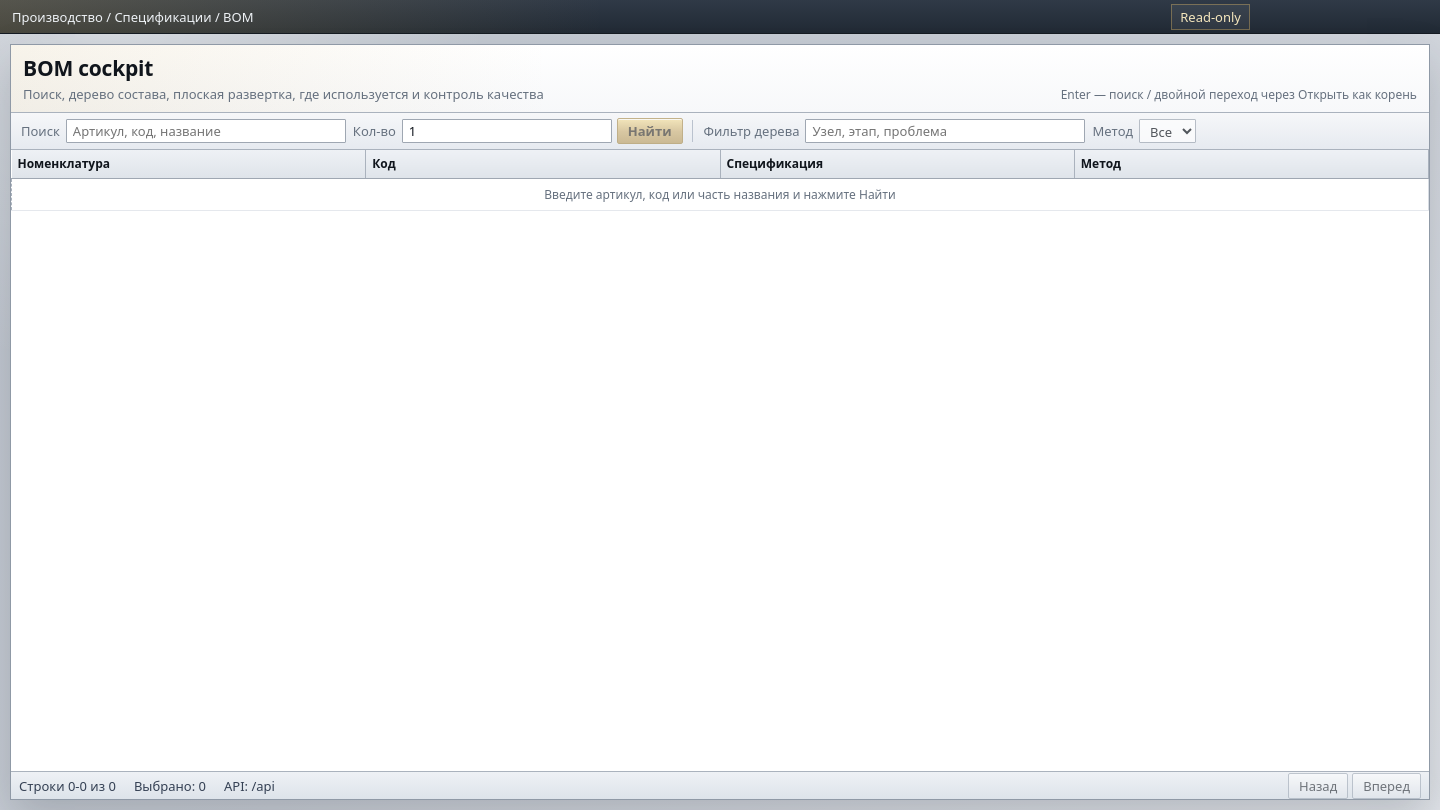
Test: SpecificationPage characterization › shows multiple search matches and lets the user pick one
expect the text "Введите артикул, код или часть названия и нажмите Найти" is shown: met, box [12,178,1428,210]
Type "нас" into the field with placeholder "Артикул, код, название" at (206, 131), box [66,119,346,143]
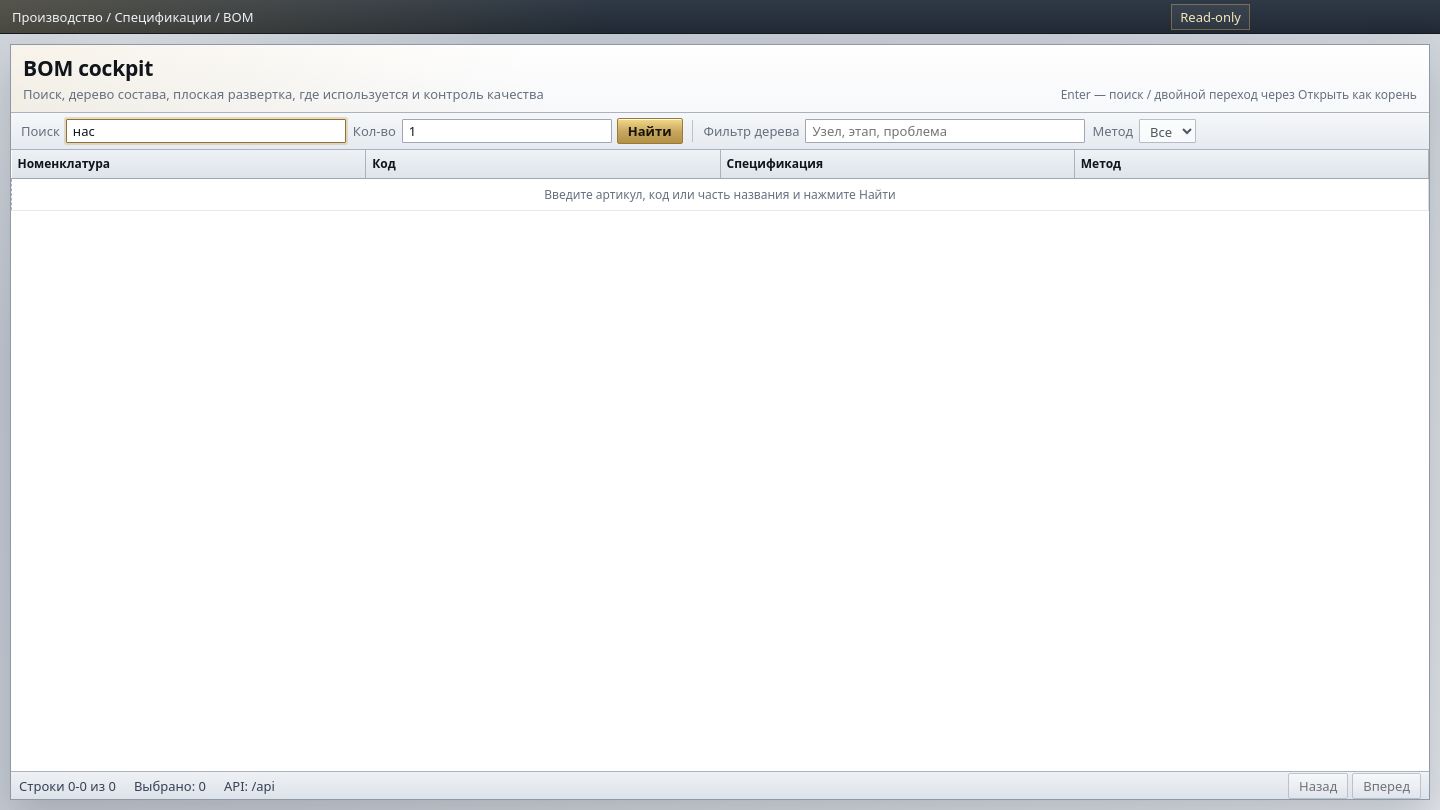
Click the button "Найти" at (650, 131), box [617,118,682,144]
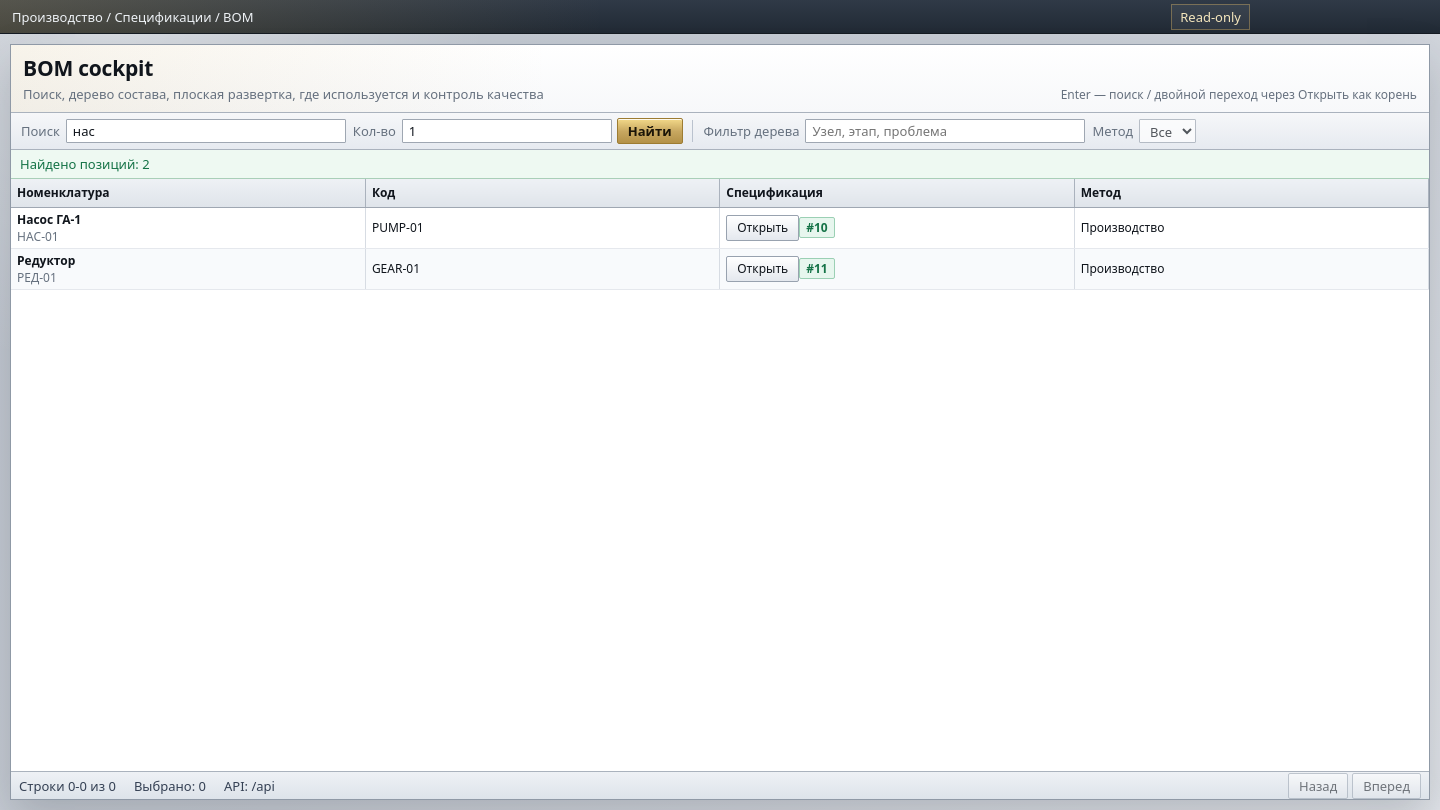
expect the text "Найдено позиций: 2" is shown: met, box [11,150,1429,179]
expect the text "Насос ГА-1" is shown: met, box [17,210,81,228]
expect the text "Редуктор" is shown: met, box [17,252,75,268]
Click the button "Открыть" next to "#10" at (763, 228), box [726,214,799,240]
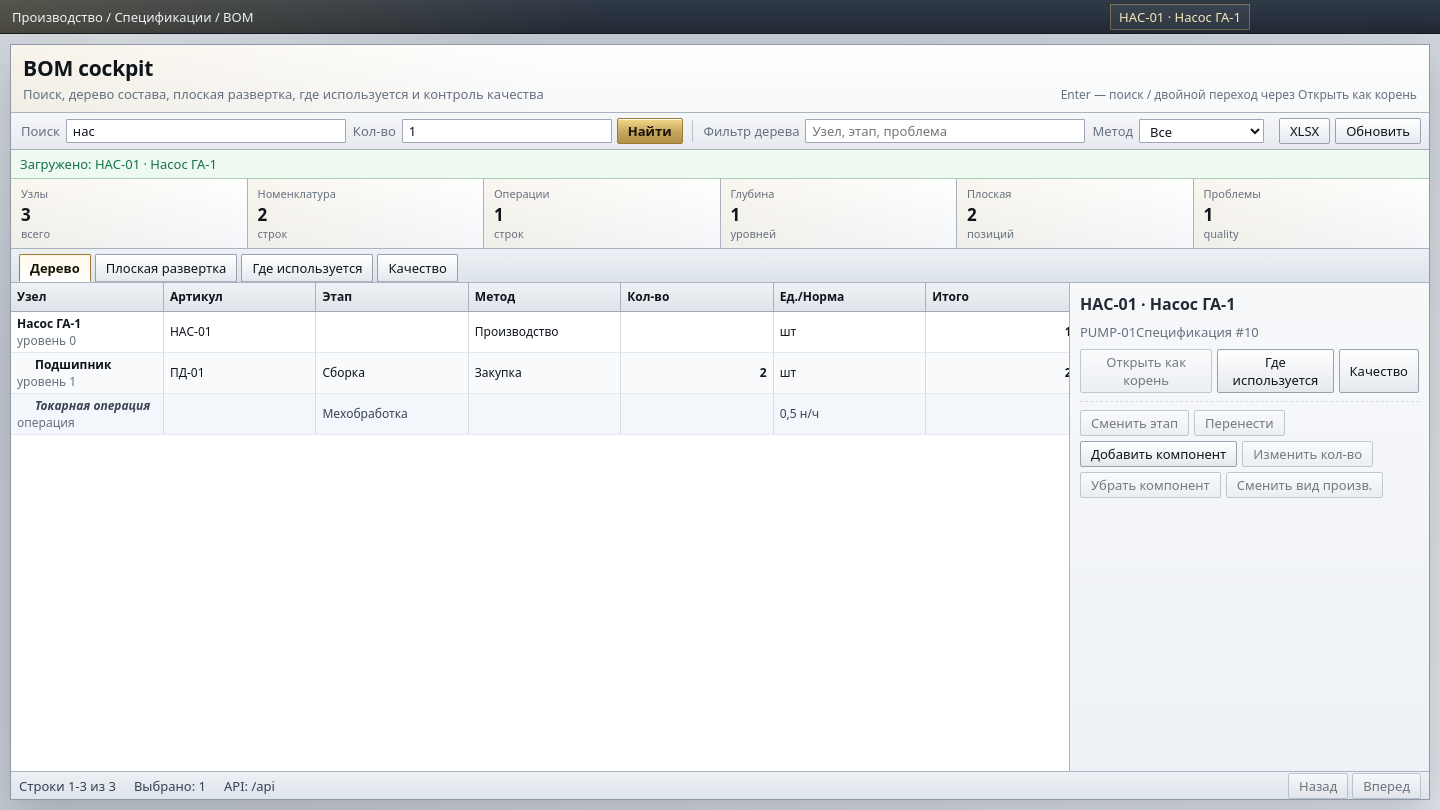
expect the text "Загружено: НАС-01 · Насос ГА-1" is shown: met, box [11,150,1429,179]
